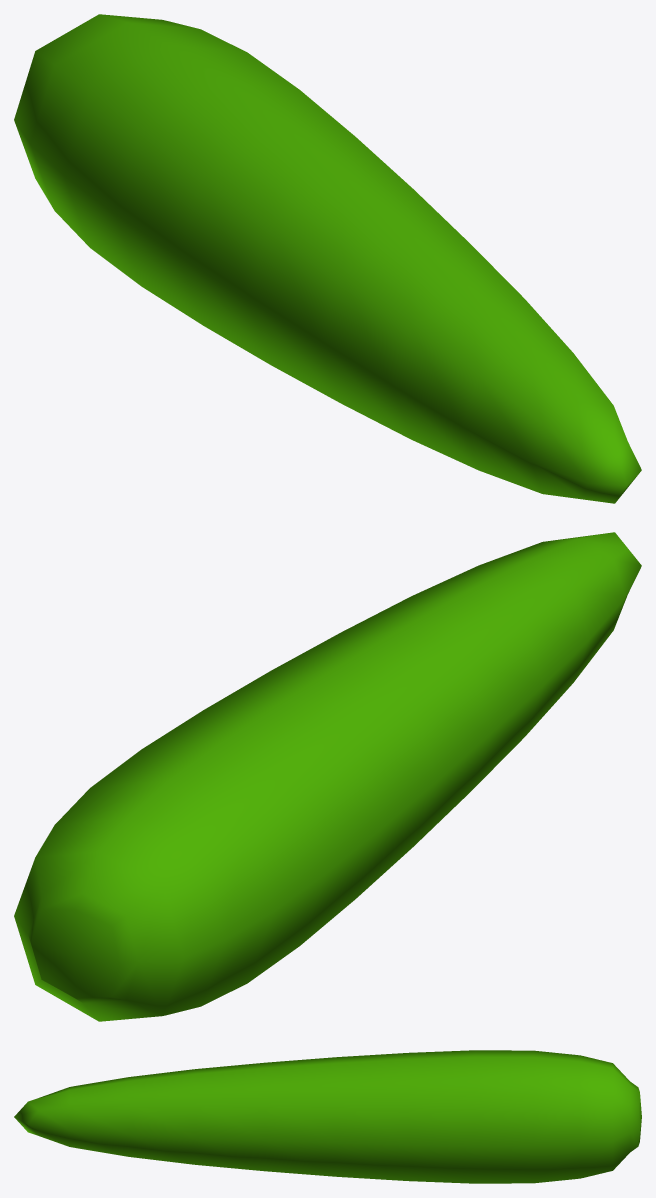
Rendered from Carrot.fbx.
3 renders of one model, top to bottom at view 1: azimuth 30°, elevation 25°; view 2: azimuth 150°, elevation 25°; view 3: azimuth 270°, elevation 25°, orthographic. The views are drawn at different scales.
Visible parts, largest first — view 1: Carrot; view 2: Carrot; view 3: Carrot.
Part boxes in pixels (x1=…): Carrot: x1=14, y1=14, x2=641, y2=503; Carrot: x1=14, y1=532, x2=641, y2=1021; Carrot: x1=14, y1=1050, x2=641, y2=1183.
Size of the model in its own units: 21.97 by 20.96 by 99.8.
